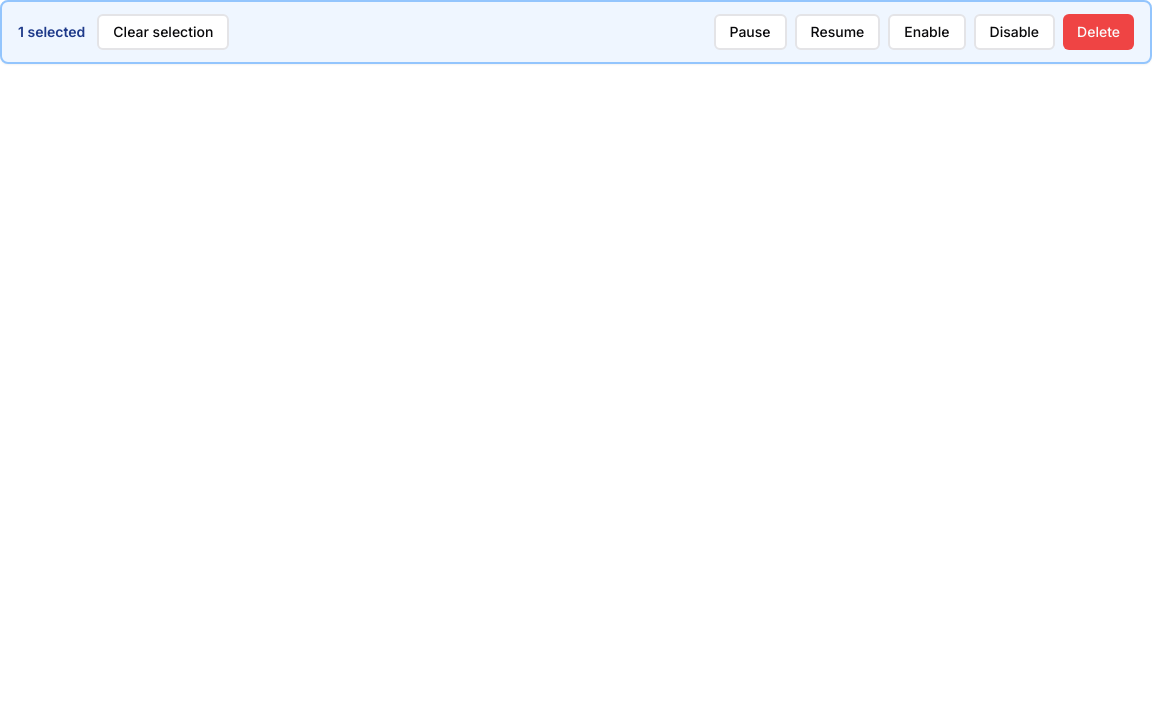
MonitorBulkActionBar › opens the confirmation dialog before bulk-deleting
Click the button "Delete" at (1099, 32), box [1063,14,1134,50]
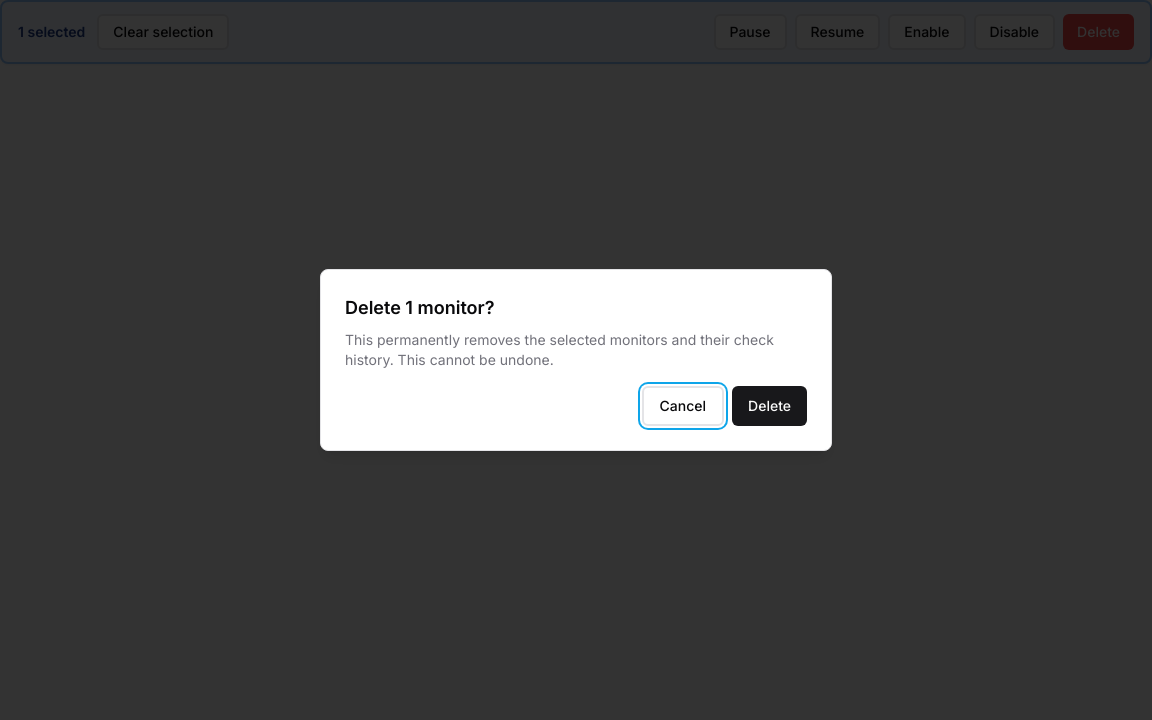
expect the dialog shows "Delete 1 monitor": met, box [320,269,832,451]
